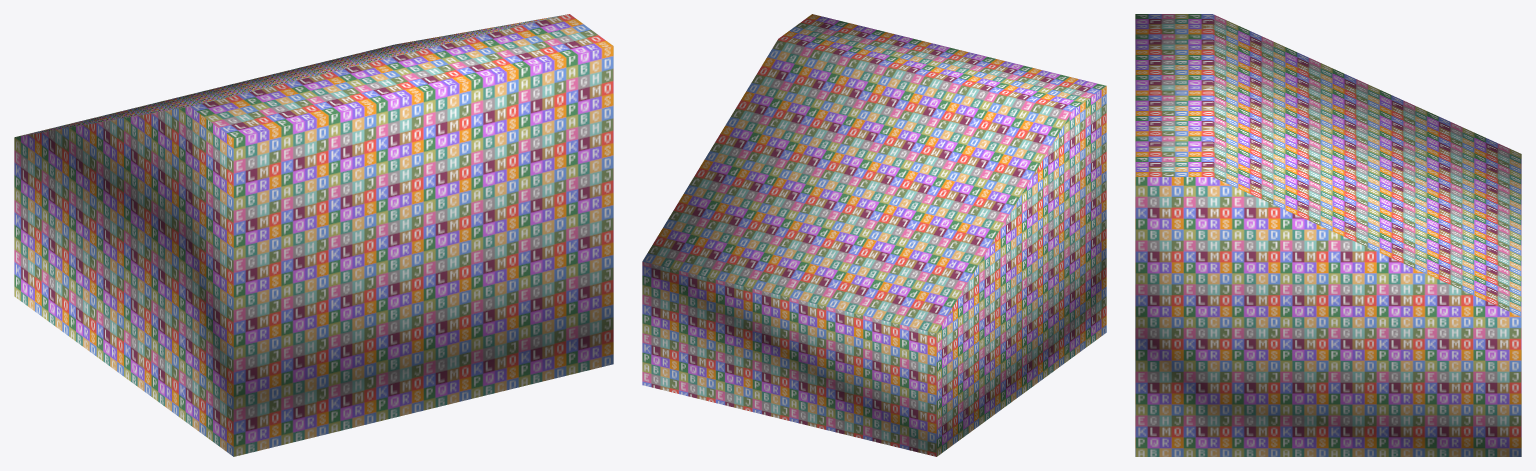
The model's file is slope_high.obj.
3 views of the same model, side by side, from view 1: azimuth 30°, elevation 25°; view 2: azimuth 150°, elevation 25°; view 3: azimuth 270°, elevation 25° (orthographic). The views are drawn at different scales.
Visible parts, largest first — view 1: cube1; view 2: cube1; view 3: cube1.
Boxes of the visible parts, x1,y1,x2,y2 form: cube1: (14,14,613,456); cube1: (642,14,1106,456); cube1: (1135,14,1521,456).
Bounding box in the file's own units: 10 × 8 × 10.
1 material, 1 textured.
